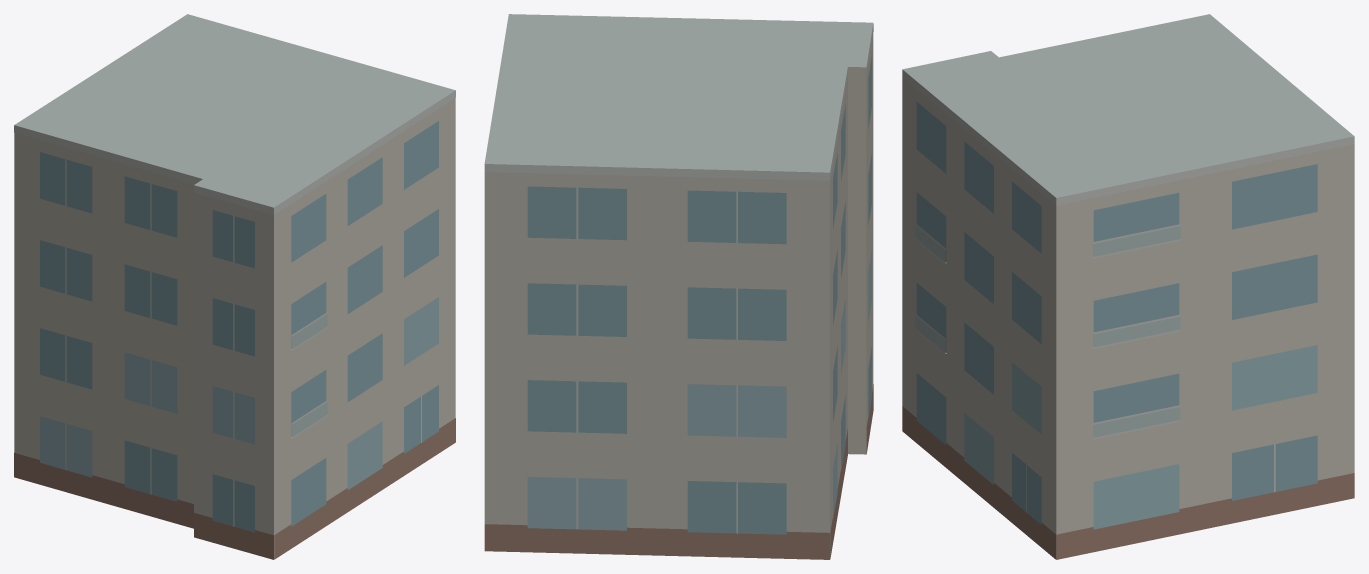
File: survey-upis-32828680.glb
3 views of the same model, side by side, from view 1: azimuth 30°, elevation 25°; view 2: azimuth 150°, elevation 25°; view 3: azimuth 270°, elevation 25° (orthographic). The views are drawn at different scales.
Visible parts, largest first — view 1: survey-upis-32828680.tmp; view 2: survey-upis-32828680.tmp; view 3: survey-upis-32828680.tmp.
Boxes of the visible parts, x1,y1,x2,y2 form: survey-upis-32828680.tmp: [14, 14, 455, 559]; survey-upis-32828680.tmp: [484, 14, 873, 559]; survey-upis-32828680.tmp: [902, 14, 1354, 559].
Size of the model in its own units: 12.6 by 11.55 by 13.09.
